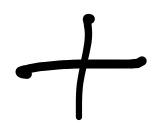plus: (16, 14, 146, 117)
